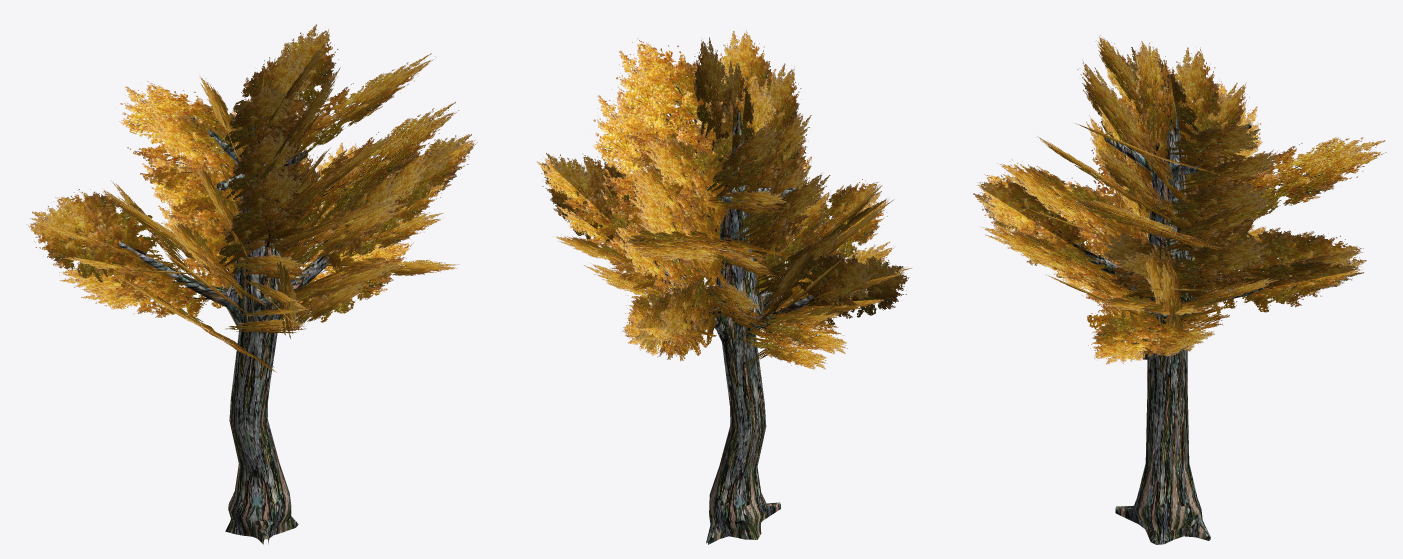
Rendered from tree B.FBX.
3 views of the same model, side by side, from view 1: azimuth 30°, elevation 25°; view 2: azimuth 150°, elevation 25°; view 3: azimuth 270°, elevation 25° (orthographic). The views are drawn at different scales.
Parts seen in each view (by area): view 1: Box001; view 2: Box001; view 3: Box001.
Boxes of the visible parts, box(x1,y1,x2,y2) form: Box001: box(26, 24, 477, 544); Box001: box(536, 31, 911, 544); Box001: box(973, 36, 1386, 544).
Size of the model in its own units: 41.91 by 46.58 by 34.33.
